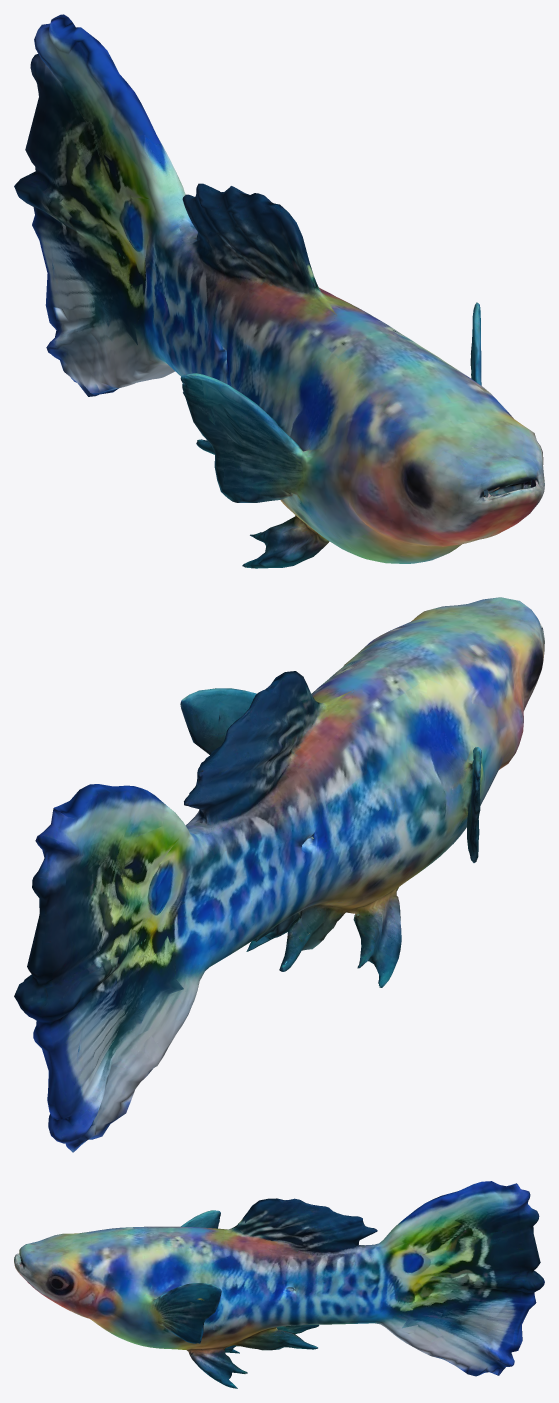
Rendered from strain-blue_leopard_fan.glb.
3 renders of one model, top to bottom at view 1: azimuth 30°, elevation 25°; view 2: azimuth 150°, elevation 25°; view 3: azimuth 270°, elevation 25°, orthographic. The views are drawn at different scales.
Parts seen in each view (by area): view 1: Mesh_0.001; view 2: Mesh_0.001; view 3: Mesh_0.001.
Part boxes in pixels (x1,y1,x2,y2): Mesh_0.001: [14, 14, 544, 568]; Mesh_0.001: [14, 597, 544, 1152]; Mesh_0.001: [14, 1181, 544, 1388].
Bounding box in the file's own units: 0.012 × 0.0137 × 0.0338.
Materials: 2 (2 with a texture image).
